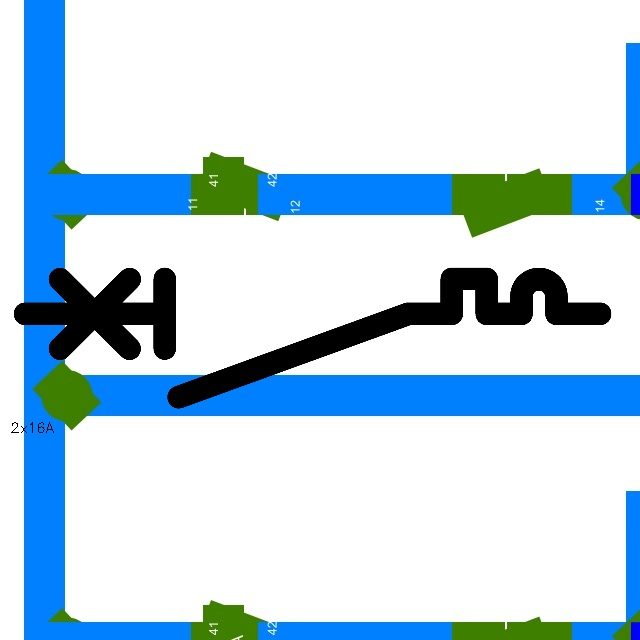interruptor_termomagnetico: (10, 264, 615, 412)
